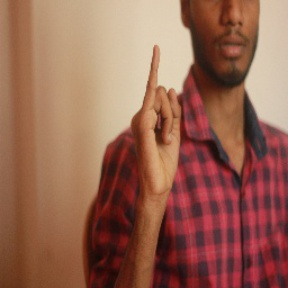I: (131, 42, 185, 181)
